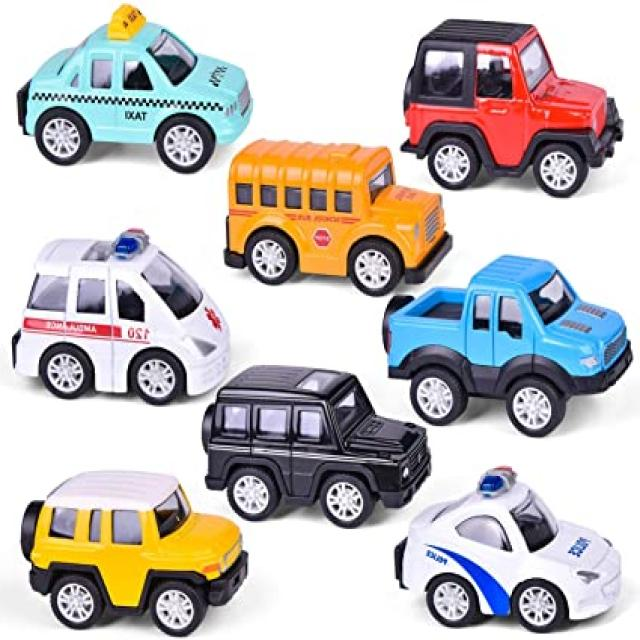Car: (17, 2, 255, 174), (12, 227, 232, 405), (394, 464, 624, 634), (21, 468, 250, 637)
